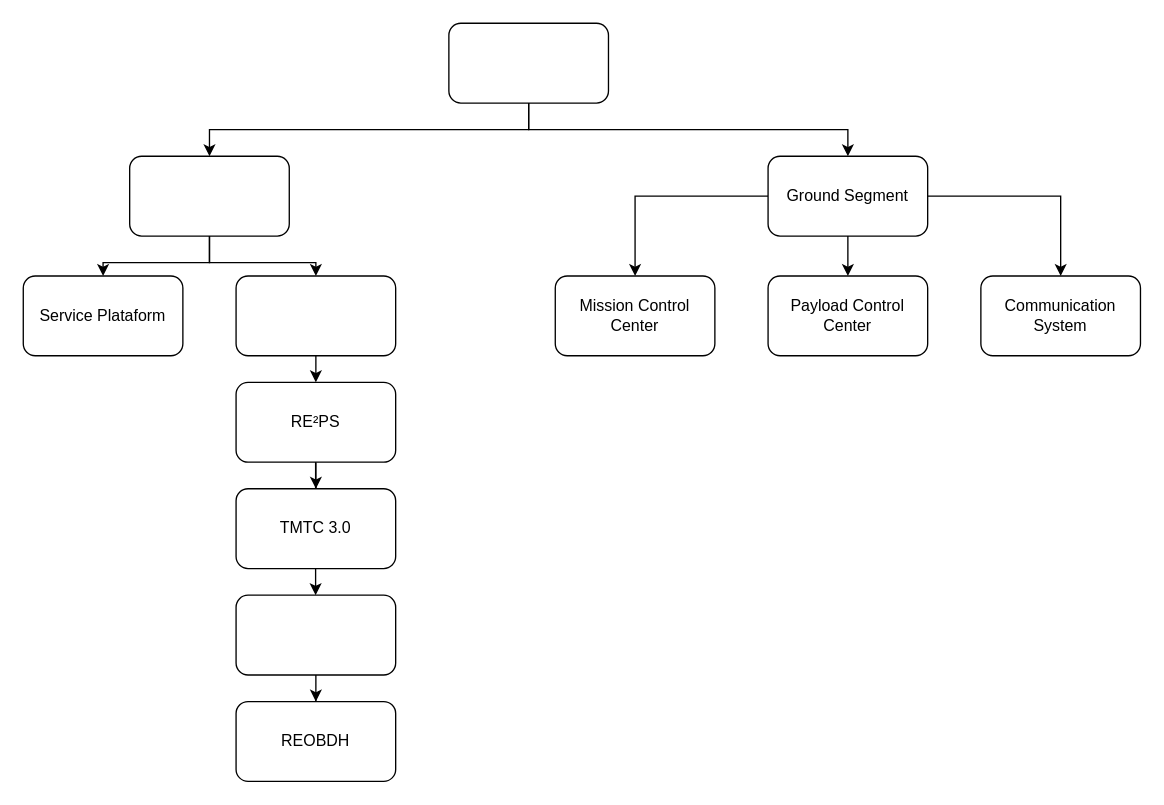
Image size: 1164x805. Some labels were removed from this diagram. The centre of each missing label's shape, as x and y in pixels:
Payloads: (315,315)
Persistent-1: (528,62)
SLCAM: (315,634)
Space Segment: (208,195)
